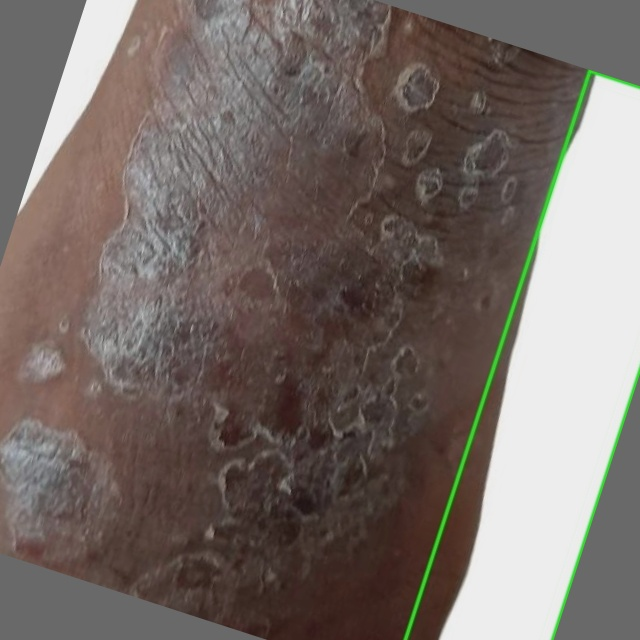Contact Dermatitis: (405, 70, 639, 639)
